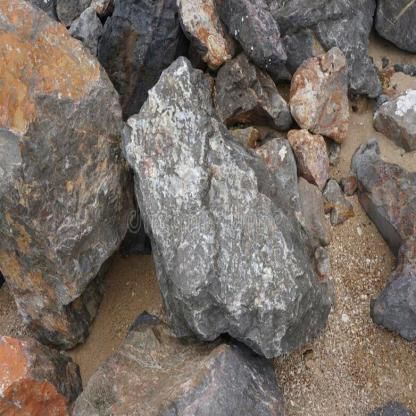Sedimentary_Limestone: (115, 46, 339, 360), (0, 7, 126, 355), (76, 316, 276, 416), (356, 142, 415, 338), (216, 0, 286, 84), (372, 70, 415, 140), (372, 0, 416, 59)
